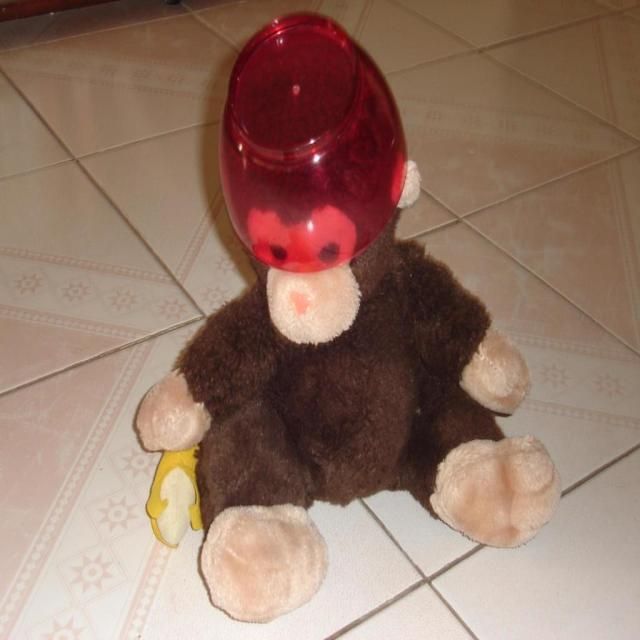Toy: (160, 74, 527, 553), (146, 444, 205, 550)
